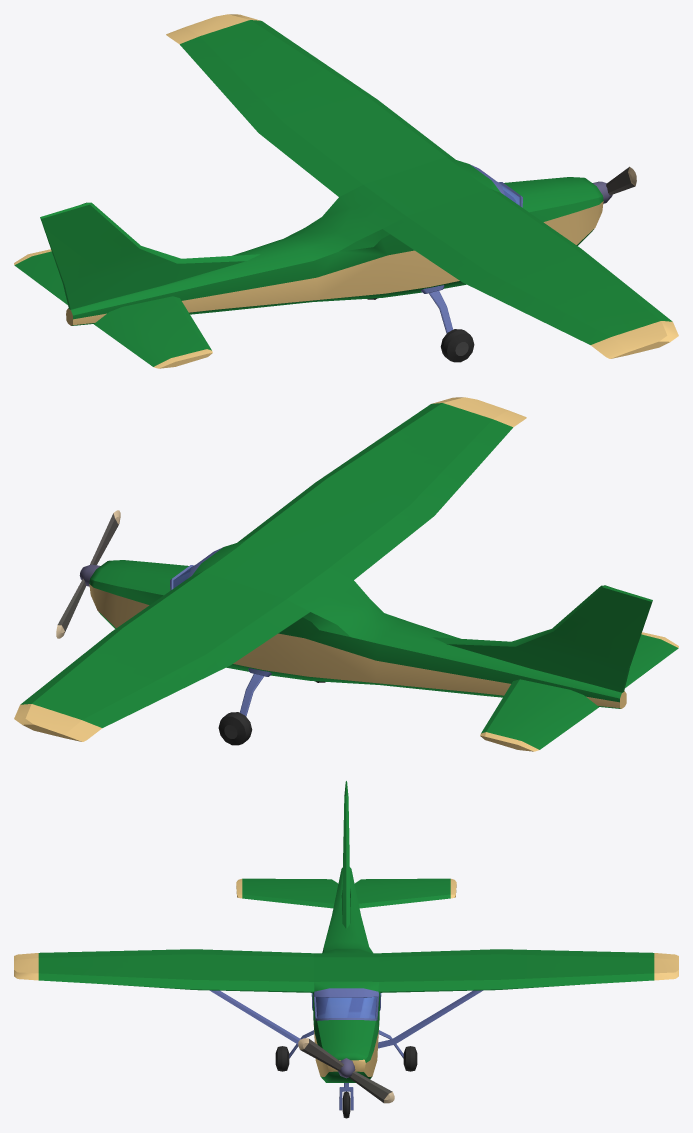
3 views of the same model, one above another, from view 1: azimuth 30°, elevation 25°; view 2: azimuth 150°, elevation 25°; view 3: azimuth 270°, elevation 25° (orthographic). The views are drawn at different scales.
Visible parts, largest first — view 1: Plane_2_F, Propeler; view 2: Plane_2_F, Propeler; view 3: Plane_2_F, Propeler.
Boxes of the visible parts, <box> form: Plane_2_F: <box>14,14,678,368</box>; Propeler: <box>606,166,636,195</box>; Plane_2_F: <box>14,397,678,751</box>; Propeler: <box>56,510,120,638</box>; Plane_2_F: <box>14,781,678,1118</box>; Propeler: <box>298,1038,394,1103</box>.
Size of the model in its own units: 12.41 by 4.29 by 16.66.
